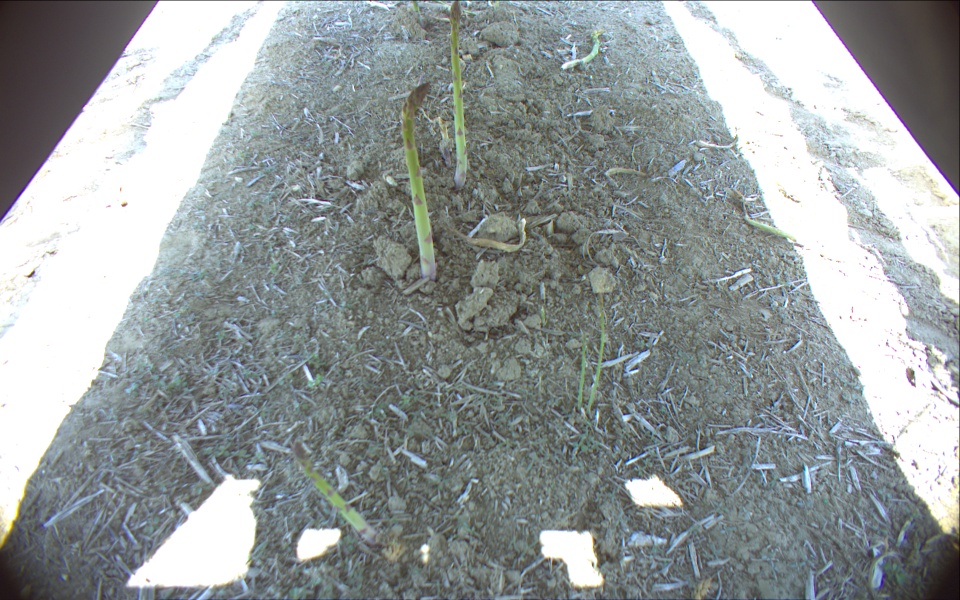aspa: (293, 442, 378, 545), (400, 82, 436, 279), (449, 1, 468, 189), (450, 218, 526, 253), (587, 293, 607, 413), (744, 214, 800, 242), (561, 30, 600, 69), (696, 124, 741, 150), (575, 327, 586, 410), (438, 114, 451, 163), (604, 166, 650, 177), (412, 1, 422, 14), (489, 1, 501, 9)
